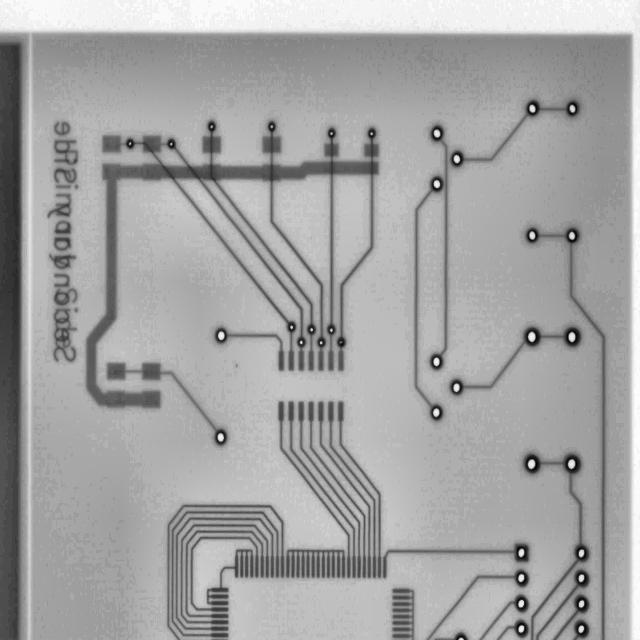Both: (563, 328, 580, 346), (514, 570, 529, 586), (524, 329, 539, 345), (514, 596, 528, 611), (430, 126, 444, 141), (214, 430, 228, 444), (450, 380, 463, 395), (526, 457, 538, 471), (566, 230, 578, 242), (431, 406, 442, 419), (431, 355, 442, 368), (567, 103, 578, 115), (516, 546, 526, 559), (577, 547, 587, 560), (516, 623, 526, 635), (452, 153, 462, 165), (528, 103, 538, 115), (432, 178, 442, 190), (567, 458, 576, 471), (216, 330, 226, 341), (527, 230, 537, 241), (577, 572, 586, 584), (577, 598, 586, 610), (577, 624, 586, 635), (337, 338, 346, 347), (309, 326, 315, 334), (369, 130, 375, 138), (456, 635, 465, 640), (289, 324, 295, 331), (298, 339, 304, 346), (318, 339, 324, 346), (127, 140, 133, 147), (269, 123, 275, 130), (169, 141, 174, 148), (329, 130, 334, 137), (329, 327, 334, 333), (209, 124, 214, 130)
L1: (85, 162, 380, 408), (262, 401, 367, 579), (294, 401, 397, 578), (272, 401, 374, 578), (302, 402, 404, 578), (287, 402, 388, 578), (281, 401, 381, 578), (167, 505, 284, 640), (100, 339, 229, 448), (570, 244, 605, 640), (171, 511, 279, 638), (330, 399, 400, 578), (175, 517, 274, 631), (180, 524, 269, 624), (414, 559, 517, 640), (186, 531, 264, 619), (379, 528, 517, 577), (191, 536, 259, 611), (199, 542, 266, 616), (463, 108, 534, 175), (462, 337, 533, 402), (415, 189, 432, 407), (227, 334, 285, 371), (286, 550, 345, 578), (477, 599, 517, 640), (440, 139, 447, 356), (393, 589, 414, 640), (569, 474, 584, 544), (103, 136, 126, 153), (143, 136, 166, 153), (495, 623, 515, 640), (203, 137, 221, 153), (263, 137, 281, 153), (328, 335, 334, 371), (324, 143, 339, 157), (364, 144, 379, 157), (289, 333, 294, 370), (309, 335, 314, 370), (338, 347, 344, 371), (318, 348, 324, 371), (299, 348, 304, 370), (540, 234, 565, 237), (541, 108, 565, 111), (541, 335, 563, 338), (542, 462, 562, 465), (434, 639, 455, 640)
L2: (135, 138, 290, 328), (161, 148, 315, 337), (191, 132, 321, 331), (244, 132, 338, 340), (340, 139, 375, 336), (521, 554, 579, 640), (534, 584, 579, 640), (553, 610, 579, 640), (331, 139, 333, 323), (573, 635, 579, 640)
